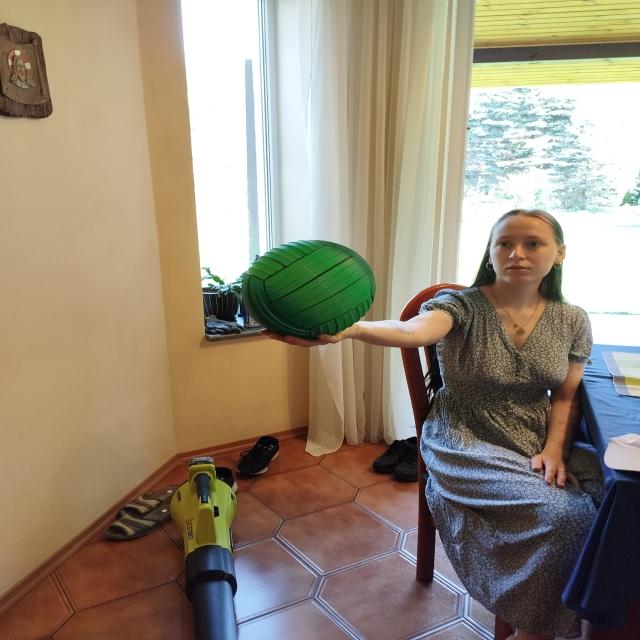zielona: (242, 240, 377, 341)
